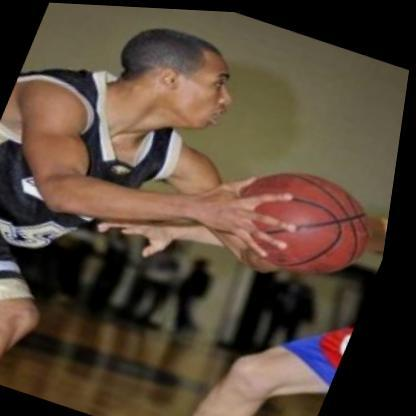basketball: (221, 151, 395, 287)
